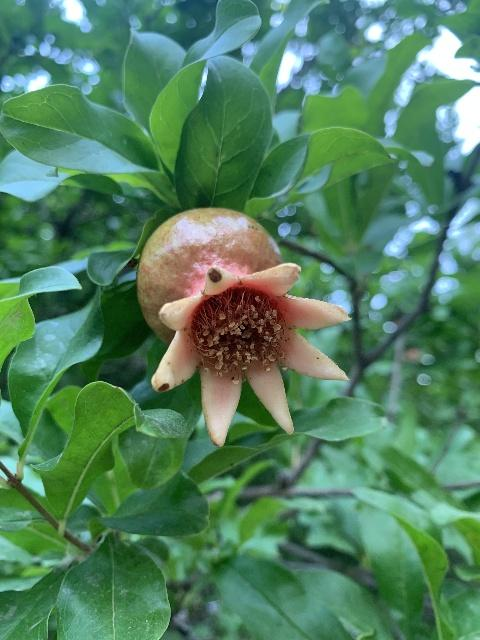early-fruit: (135, 206, 354, 448)
